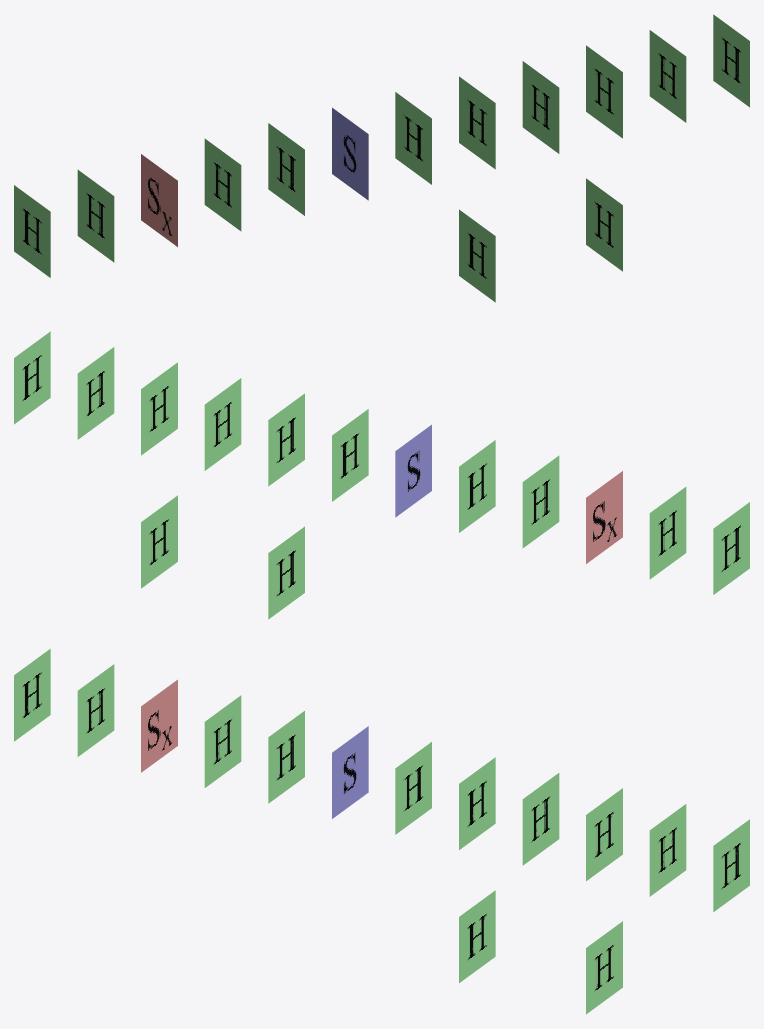
Rendered from tick.gltf.
The picture shows the model from 3 angles, top to bottom: view 1: azimuth 30°, elevation 25°; view 2: azimuth 150°, elevation 25°; view 3: azimuth 330°, elevation 25°; orthographic projection.
Size of the model in its own units: 11 by 3 by 1.
1 material, 1 textured.
